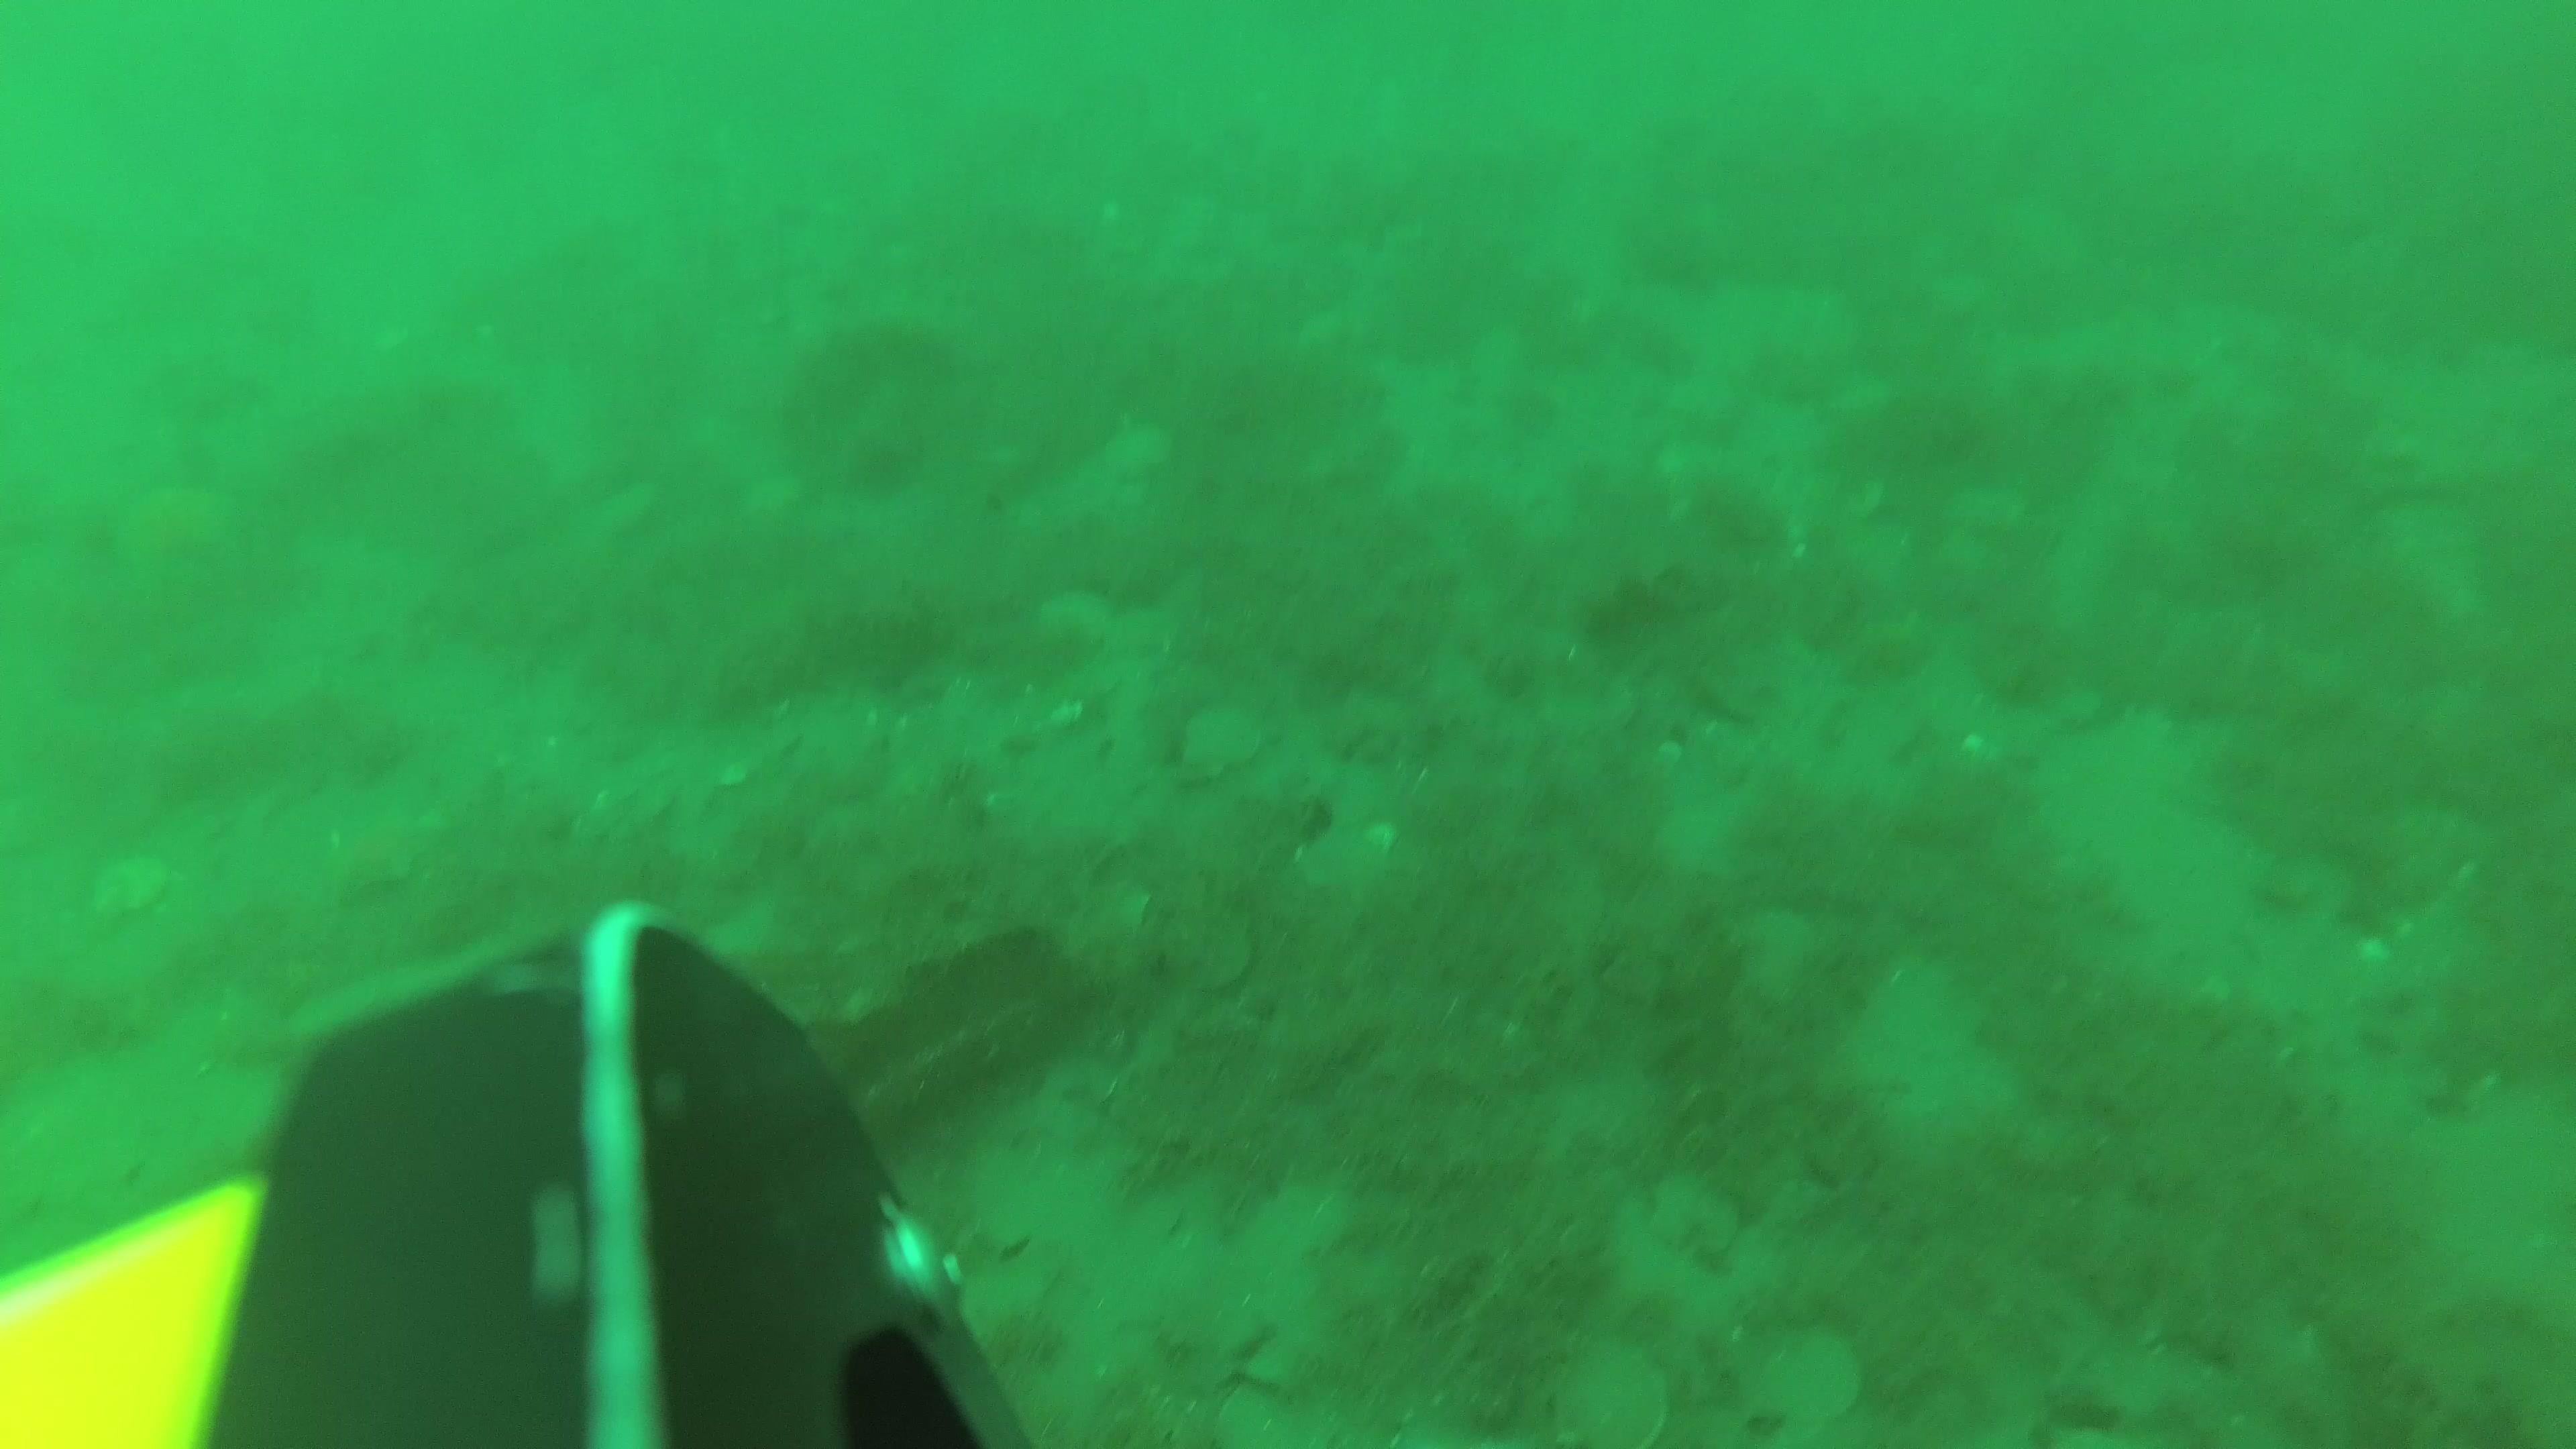scallop: (1729, 1316, 1874, 1447), (1644, 1162, 1753, 1267), (1157, 895, 1260, 993), (1178, 695, 1267, 786), (1219, 1380, 1316, 1449)
starfish: (106, 474, 257, 596), (1539, 1334, 1675, 1449)
